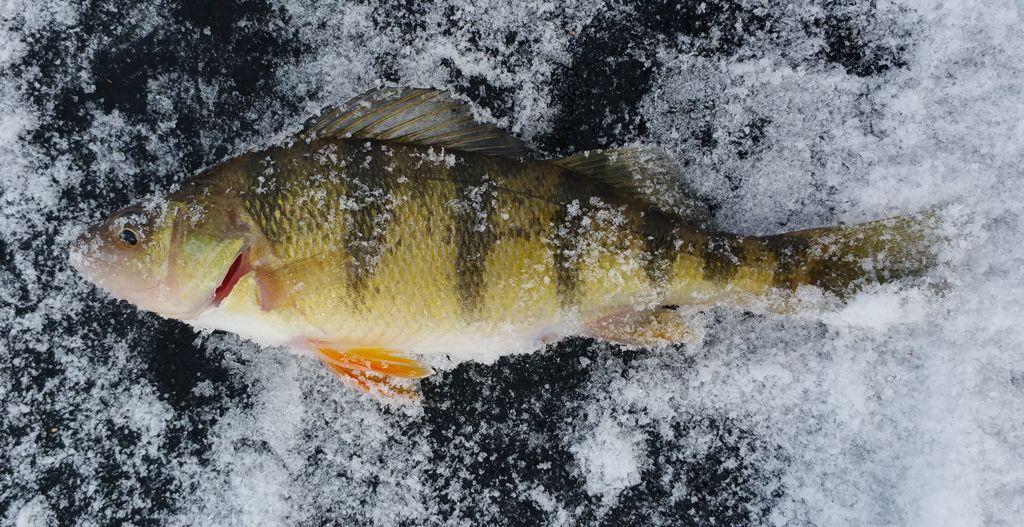Perch: (71, 90, 947, 394)
